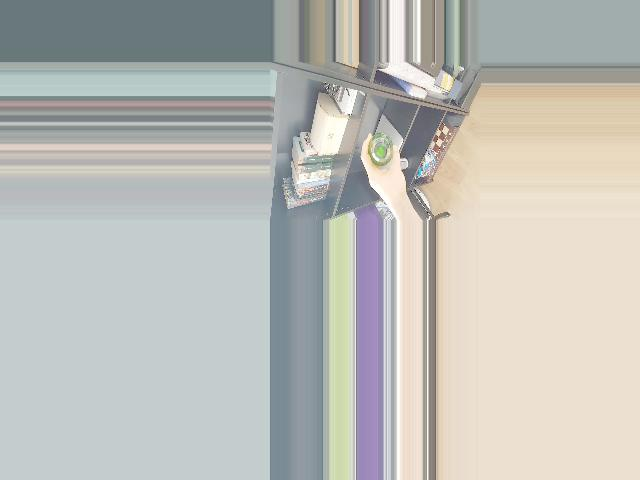beer: (369, 135, 394, 165)
